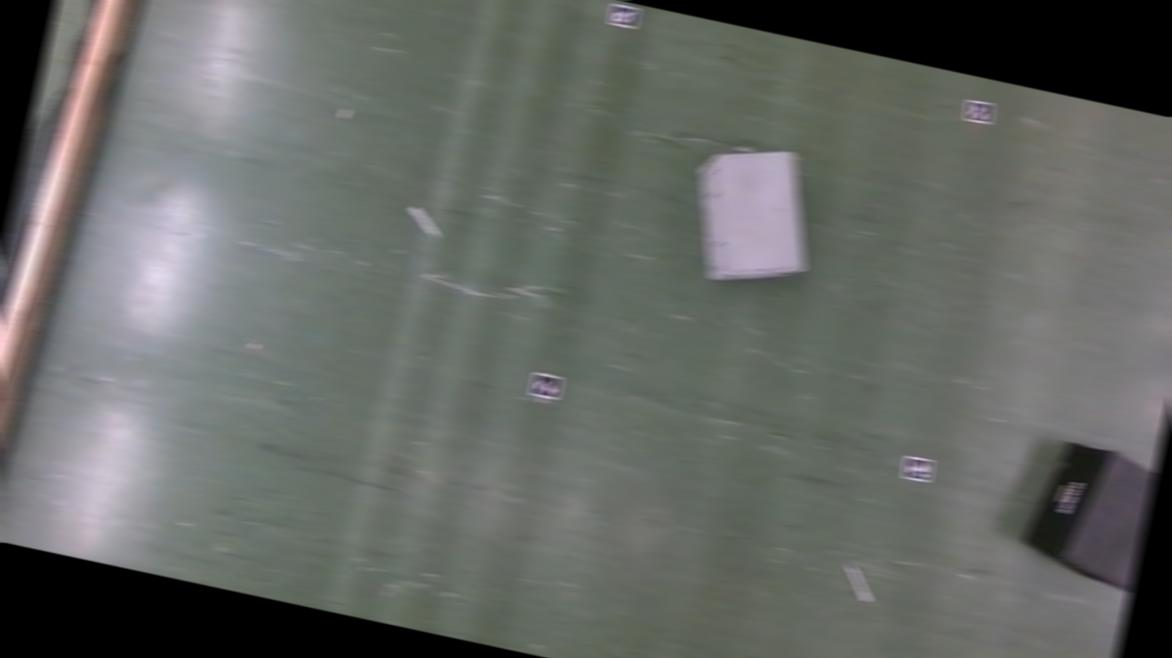probes: (840, 562, 875, 602), (405, 205, 443, 238)
rako: (676, 136, 829, 300), (1014, 436, 1160, 592)
